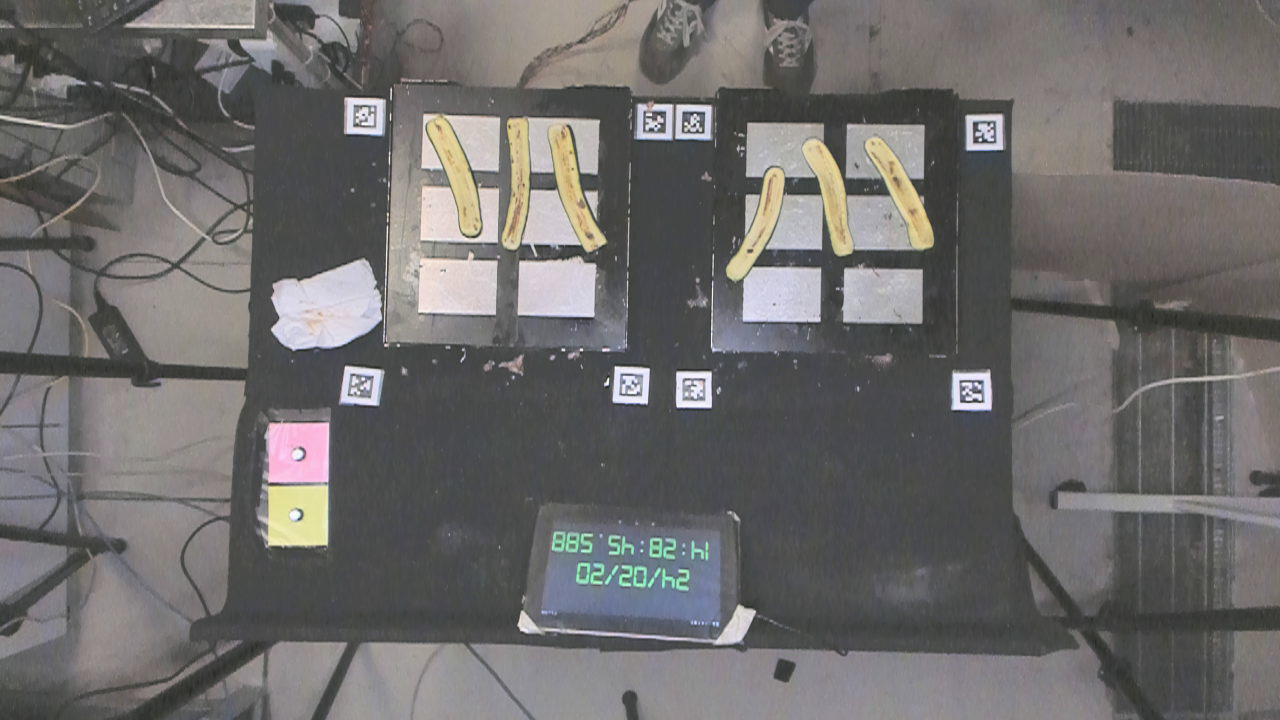marker: (263, 418, 333, 487)
zucchini: (862, 121, 940, 259), (543, 118, 618, 254), (720, 159, 784, 288), (424, 106, 485, 237), (802, 128, 856, 264), (504, 112, 533, 256)
